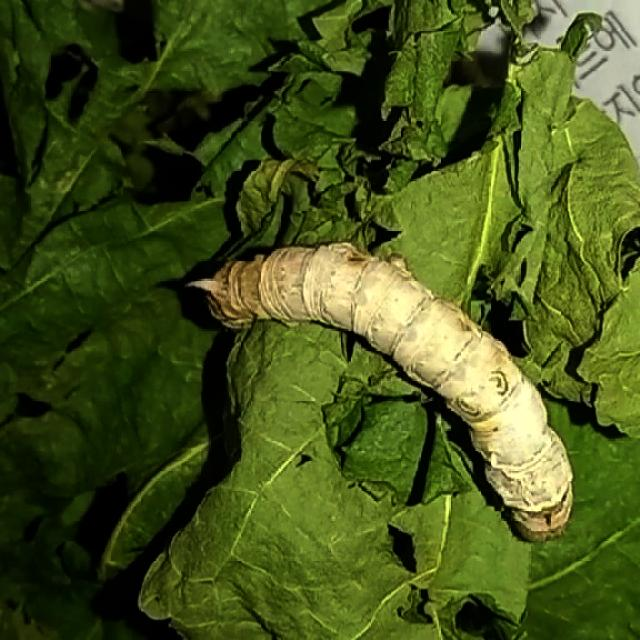Grasserie: (188, 222, 595, 559)
